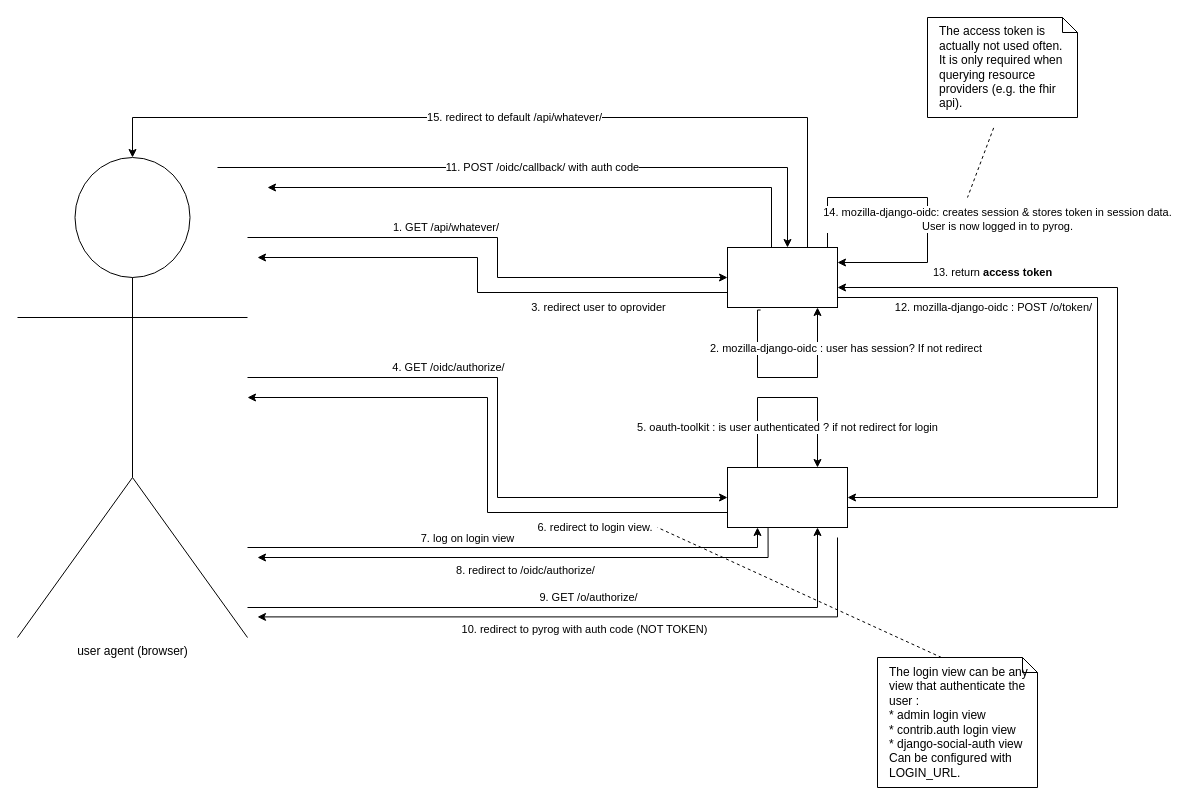
Image size: 1189x805. Some labels were removed from this diagram. Here are the shapes that lost their labels. From the top down, the box of each, then its label:
(726, 246, 838, 308): pyrog
(726, 466, 848, 528): oprovider
